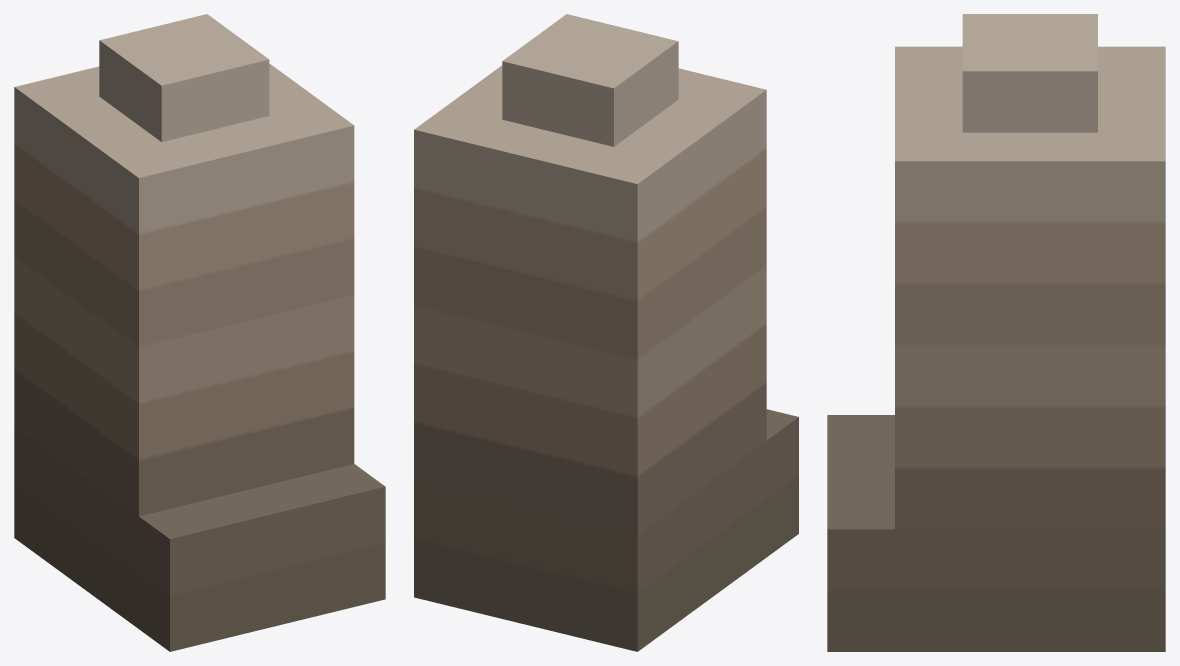
File: Knee051.fbx
3 renders of one model, left to right at view 1: azimuth 30°, elevation 25°; view 2: azimuth 150°, elevation 25°; view 3: azimuth 270°, elevation 25°, orthographic. The views are drawn at different scales.
Parts seen in each view (by area): view 1: Knee051; view 2: Knee051; view 3: Knee051.
Boxes of the visible parts, x1=… form: Knee051: x1=14, y1=14, x2=385, y2=651; Knee051: x1=414, y1=14, x2=798, y2=651; Knee051: x1=827, y1=14, x2=1165, y2=651.
Bounding box in the file's own units: 4 × 9 × 5.
